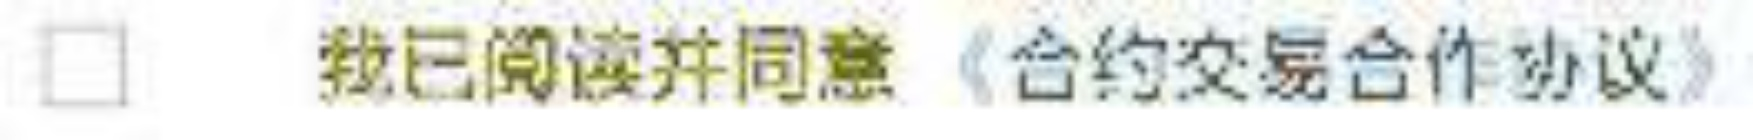CheckBox: (1, 1, 1752, 139)
